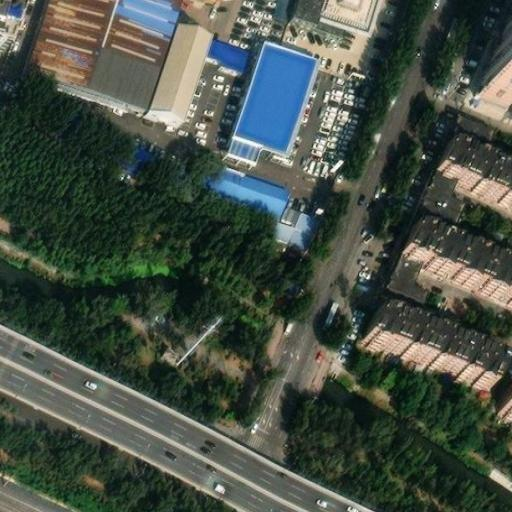building: (387, 102, 497, 294), (27, 0, 179, 105), (228, 32, 319, 155), (406, 217, 512, 293), (149, 11, 213, 111), (200, 153, 290, 209), (436, 135, 512, 197), (365, 304, 440, 358), (427, 328, 501, 381), (165, 301, 224, 362), (473, 0, 512, 92), (273, 197, 319, 242), (204, 30, 254, 67), (494, 375, 511, 422), (293, 0, 320, 15)
